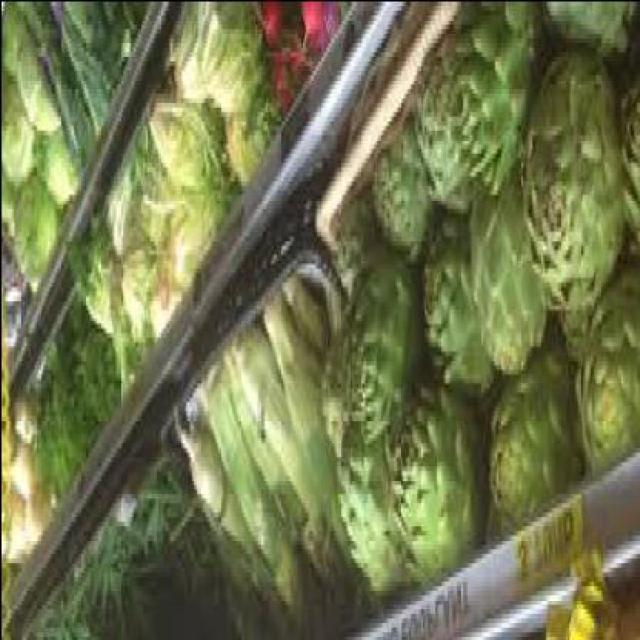BIODEGRADABLE: (261, 304, 370, 608), (224, 341, 347, 599), (197, 368, 312, 621), (517, 60, 618, 322), (168, 405, 282, 626), (385, 377, 477, 589), (484, 331, 574, 544), (450, 5, 539, 203), (459, 184, 543, 387), (342, 253, 418, 447), (573, 267, 638, 475), (19, 5, 90, 189), (422, 225, 492, 410), (400, 37, 465, 221), (333, 442, 404, 602), (65, 548, 221, 617), (368, 124, 434, 267), (52, 5, 120, 134), (144, 92, 218, 208), (100, 138, 155, 272), (162, 179, 224, 295), (166, 5, 237, 106), (208, 9, 264, 129), (32, 594, 177, 638), (544, 576, 638, 638), (542, 5, 638, 64), (222, 92, 273, 203), (68, 217, 110, 346), (9, 179, 53, 299), (617, 19, 638, 262), (280, 276, 328, 382), (97, 506, 205, 552), (15, 37, 60, 143), (330, 202, 370, 313), (118, 234, 150, 354), (30, 364, 56, 511), (319, 341, 350, 461), (0, 78, 32, 193), (52, 314, 72, 492), (32, 133, 76, 212), (75, 318, 98, 460), (0, 502, 45, 570), (108, 267, 130, 405), (147, 262, 175, 350), (268, 50, 300, 124), (101, 5, 153, 50), (295, 5, 333, 64), (95, 355, 118, 433), (2, 3, 23, 83), (6, 447, 32, 507), (140, 474, 186, 506), (8, 410, 32, 461), (255, 5, 277, 60), (557, 322, 580, 373), (0, 239, 20, 295), (1, 188, 12, 230)
